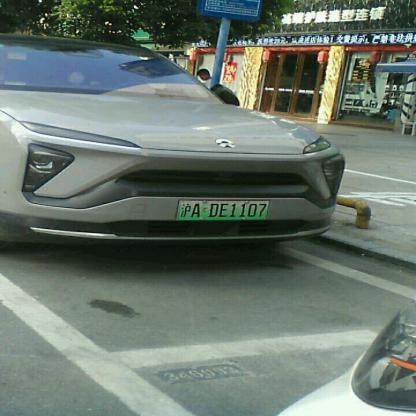lp: (178, 200, 270, 219)
